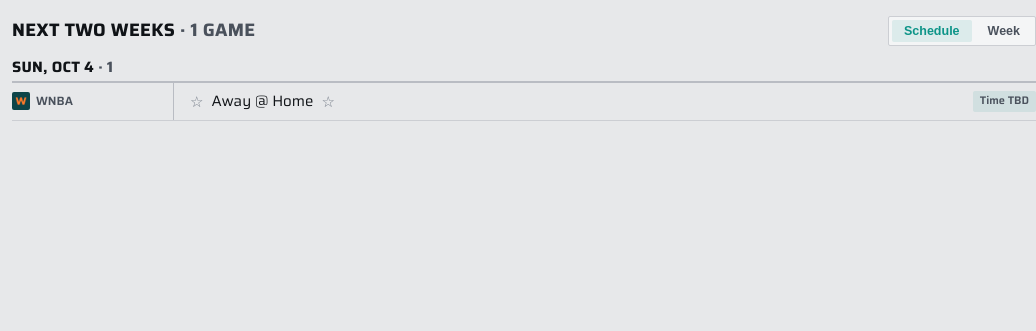
Test: a game with no announced tip time › lands in the Oct 4 cell of the calendar grid, abbreviated
Click the tab "Week".
click(1004, 31)  # box [976,20,1032,42]
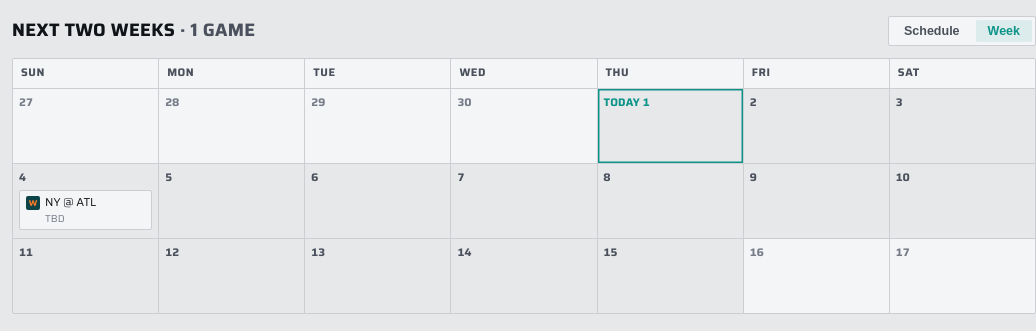
Expected: the text with class "up-cal-time" reads "TBD", [45,211,64,226]
Expected: the cell "4 NY @ ATL TBD" is shown, [13,164,158,238]
Expected: the text with class "up-cal-line" reads "NY @ ATL", [45,193,96,211]
